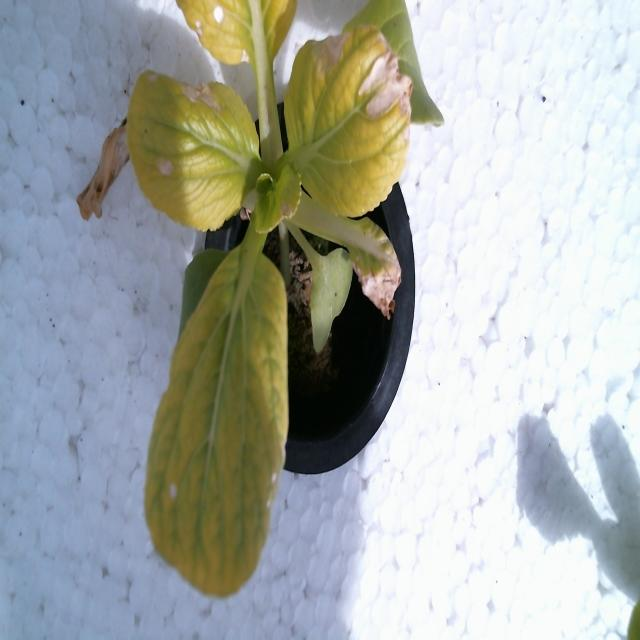pakcoy_tidak_sehat: (103, 0, 447, 607)
